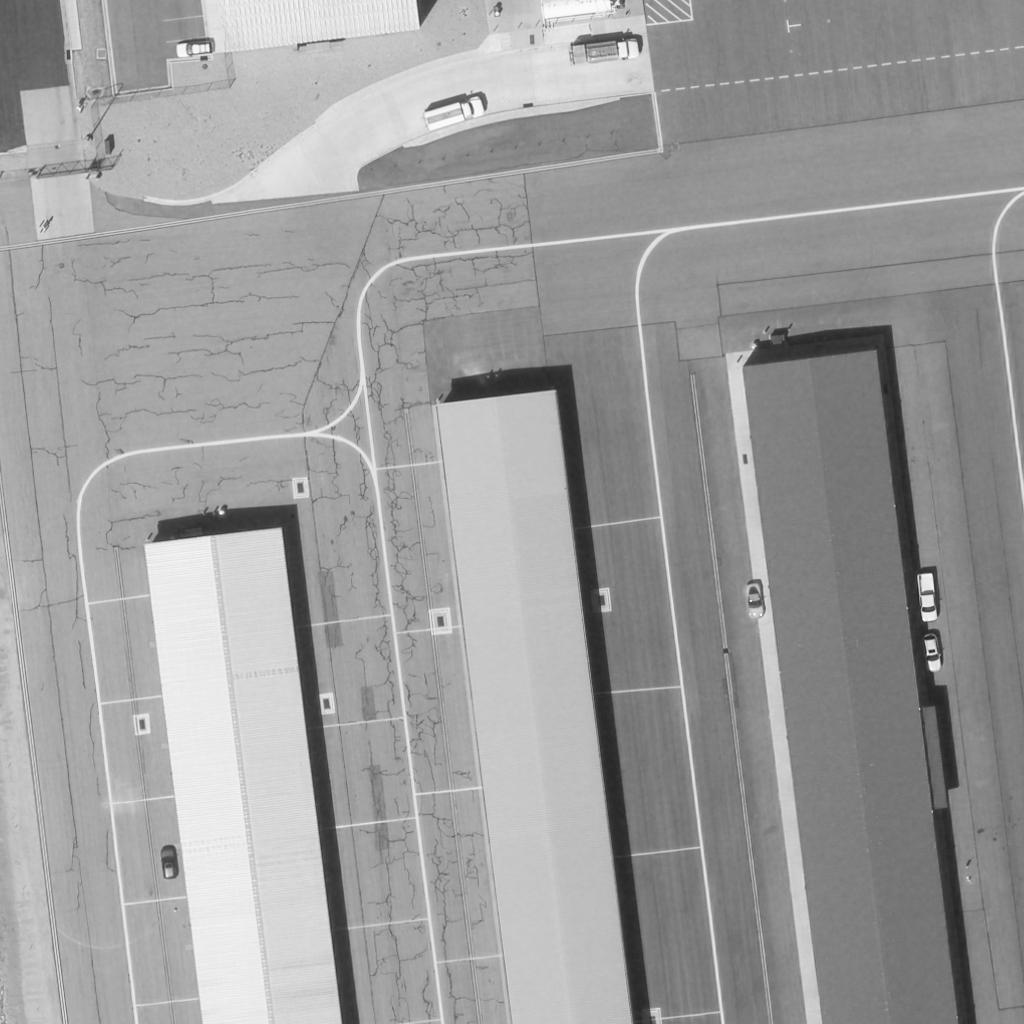vehicle: (421, 93, 489, 137), (570, 40, 642, 68), (917, 577, 939, 619), (924, 632, 944, 676), (175, 42, 217, 60), (743, 583, 765, 617), (162, 846, 178, 878)
